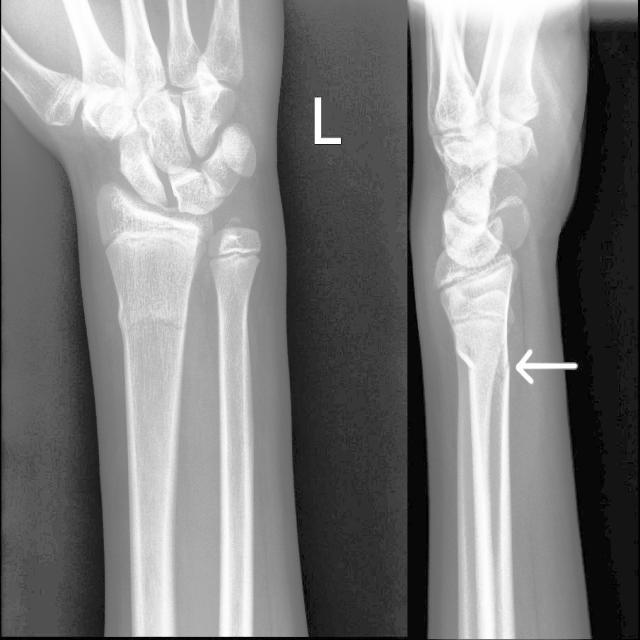GreenStick Fracture: (492, 342, 514, 399)
